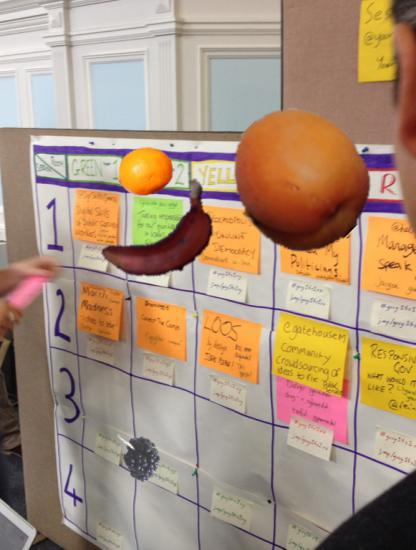Apricot: (227, 106, 373, 252)
Banana: (101, 178, 225, 302)
Lemon: (117, 143, 174, 200)
Mulberry: (114, 426, 173, 485)
